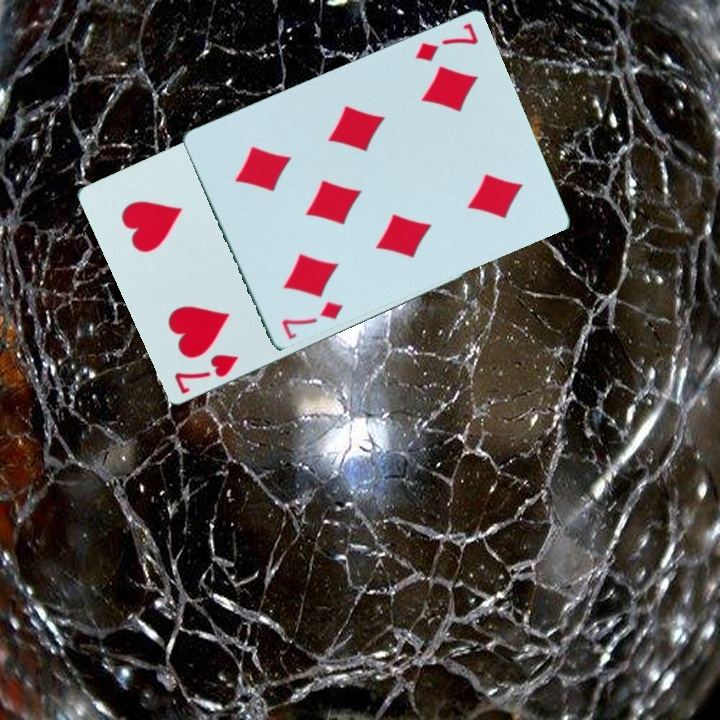7d: (411, 20, 481, 66), (278, 298, 346, 343)
7h: (170, 350, 242, 397)
